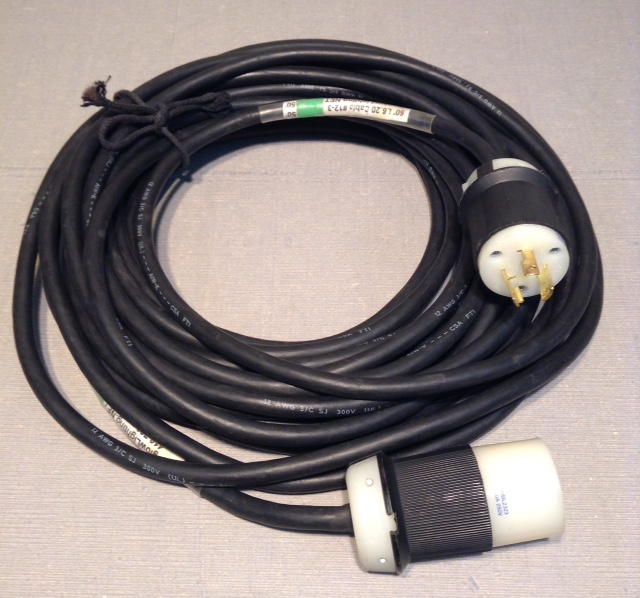Nonrec_Tangler: (18, 9, 611, 572)
